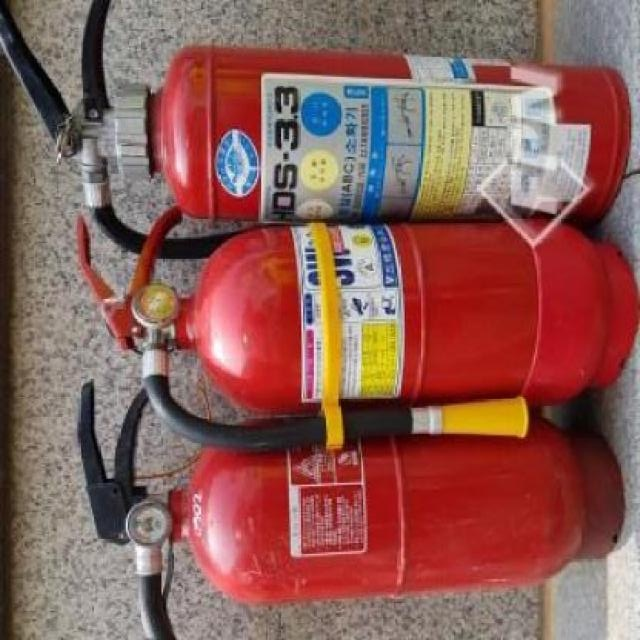fire extinguisher: (0, 0, 629, 262), (76, 380, 624, 640), (75, 205, 640, 452)
